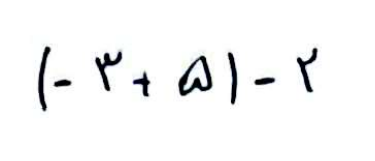character: (177, 55, 214, 97), (95, 50, 123, 92), (297, 47, 319, 92), (38, 46, 51, 109), (227, 52, 239, 105), (132, 71, 151, 97), (253, 77, 277, 88), (53, 79, 75, 90)
